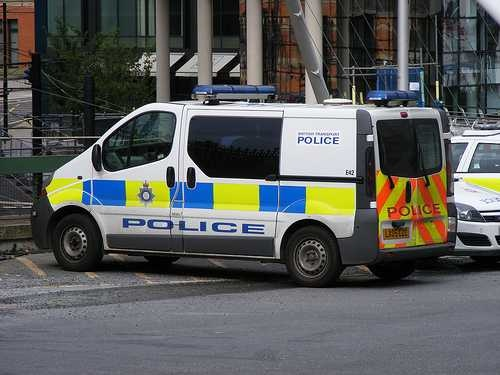Ambulance: (19, 72, 458, 289)
